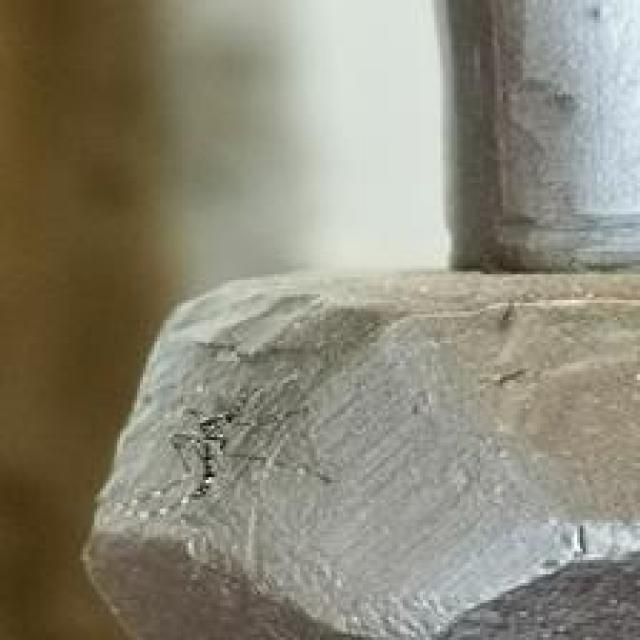Aedes albopictus: (169, 409, 237, 500)
